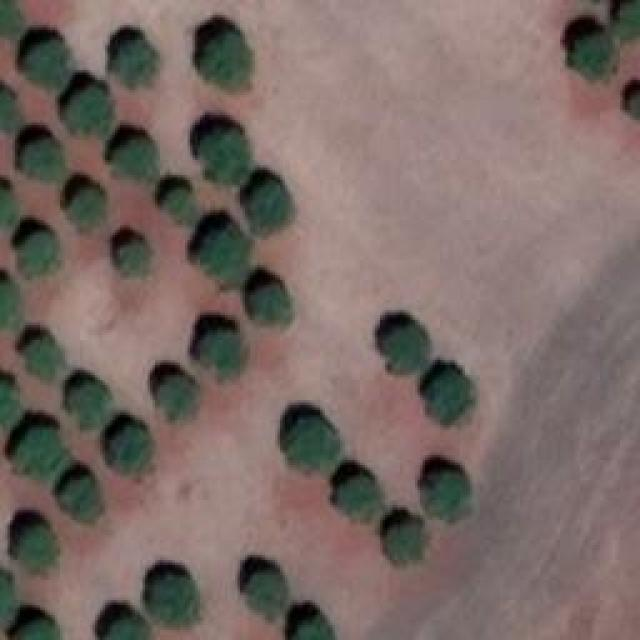Tree: (12, 428, 70, 481), (200, 227, 253, 285), (203, 33, 253, 93), (290, 415, 340, 470), (202, 130, 250, 185), (65, 88, 113, 141), (428, 370, 473, 423), (200, 328, 243, 383), (25, 40, 70, 88), (153, 575, 198, 623), (113, 40, 156, 88), (250, 183, 288, 236), (18, 525, 61, 570), (110, 428, 153, 473), (245, 575, 288, 620), (385, 325, 425, 373), (23, 140, 66, 183), (425, 473, 468, 516), (60, 478, 100, 523), (68, 383, 108, 428), (155, 375, 195, 420), (110, 140, 155, 180), (250, 283, 290, 326), (573, 38, 613, 81), (342, 475, 380, 520), (20, 233, 55, 278), (22, 340, 60, 380), (388, 523, 423, 566), (70, 190, 105, 225), (163, 190, 198, 225), (105, 617, 150, 640), (120, 240, 150, 273), (295, 617, 335, 640), (617, 0, 640, 40), (0, 285, 18, 333), (12, 622, 60, 640), (0, 0, 22, 37), (0, 380, 18, 425), (0, 93, 20, 133), (0, 575, 15, 625), (622, 82, 640, 120), (0, 188, 15, 231)
